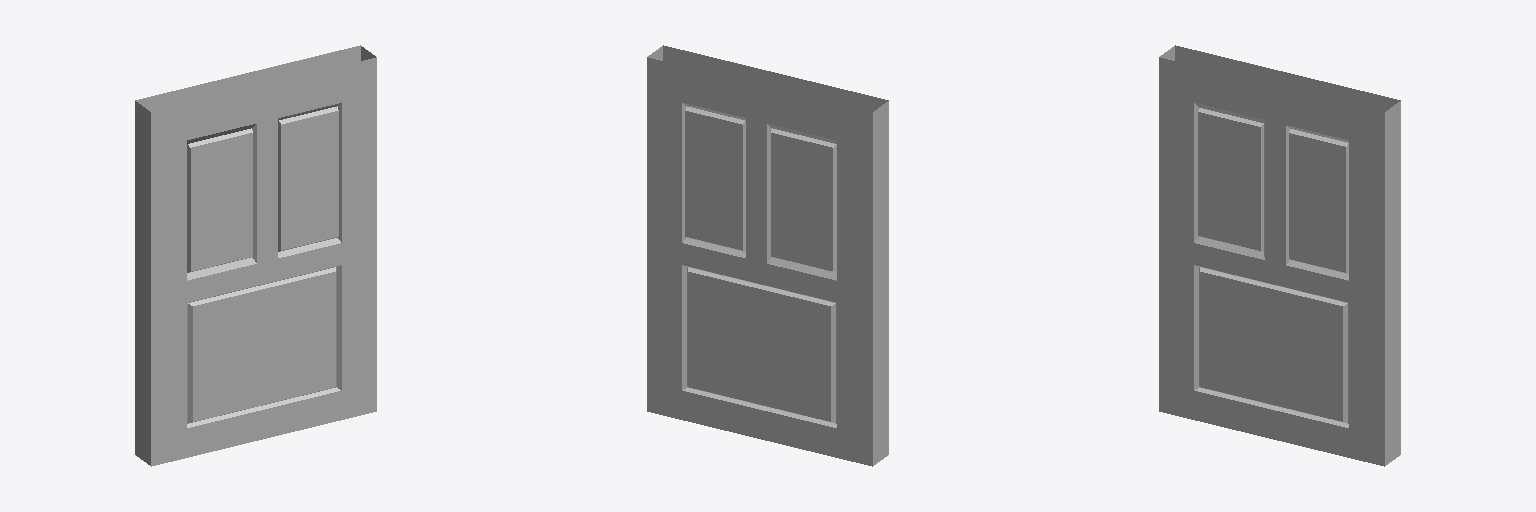
File: Door 2.obj
The picture shows the model from 3 angles: view 1: azimuth 30°, elevation 25°; view 2: azimuth 150°, elevation 25°; view 3: azimuth 330°, elevation 25°; orthographic projection.
Visible parts, largest first — view 1: Door 2; view 2: Door 2; view 3: Door 2.
Part boxes in pixels (bbox=[...]): Door 2: bbox=[135, 45, 376, 466]; Door 2: bbox=[647, 45, 888, 466]; Door 2: bbox=[1159, 45, 1400, 466].
Size of the model in its own units: 2 by 3 by 0.25.